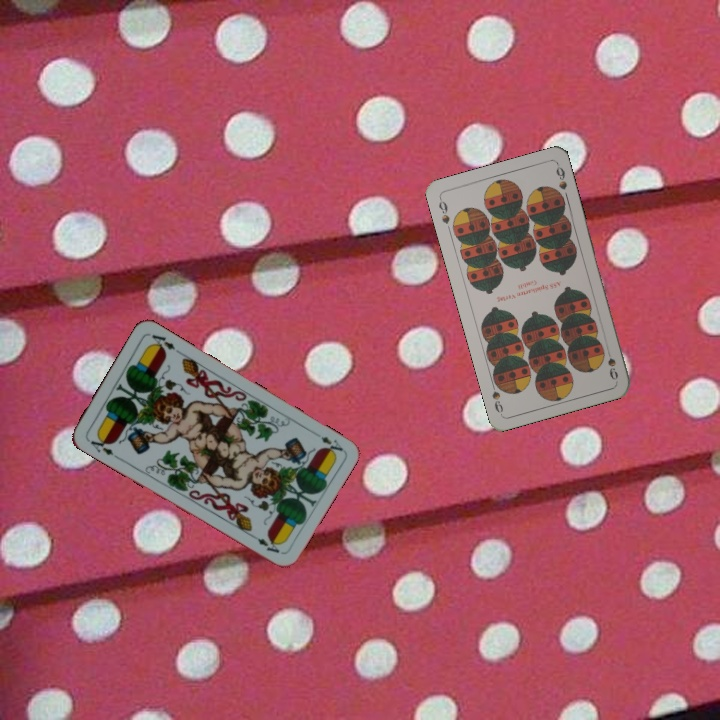EA: (84, 431, 116, 458), (317, 432, 346, 457)
S9: (435, 194, 452, 226), (604, 354, 621, 383)
